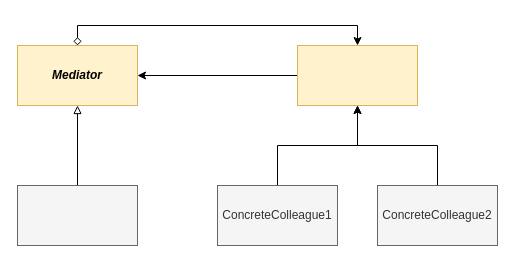
Image size: 515x263. Some labels were removed from this diagram. The shapes that lost their labels are listed below. From the top down, each one's box as (x1, y1, x2, y2) in pixels, then its label:
(296, 44, 418, 106): Colleague
(16, 184, 138, 246): ConceteMediator
